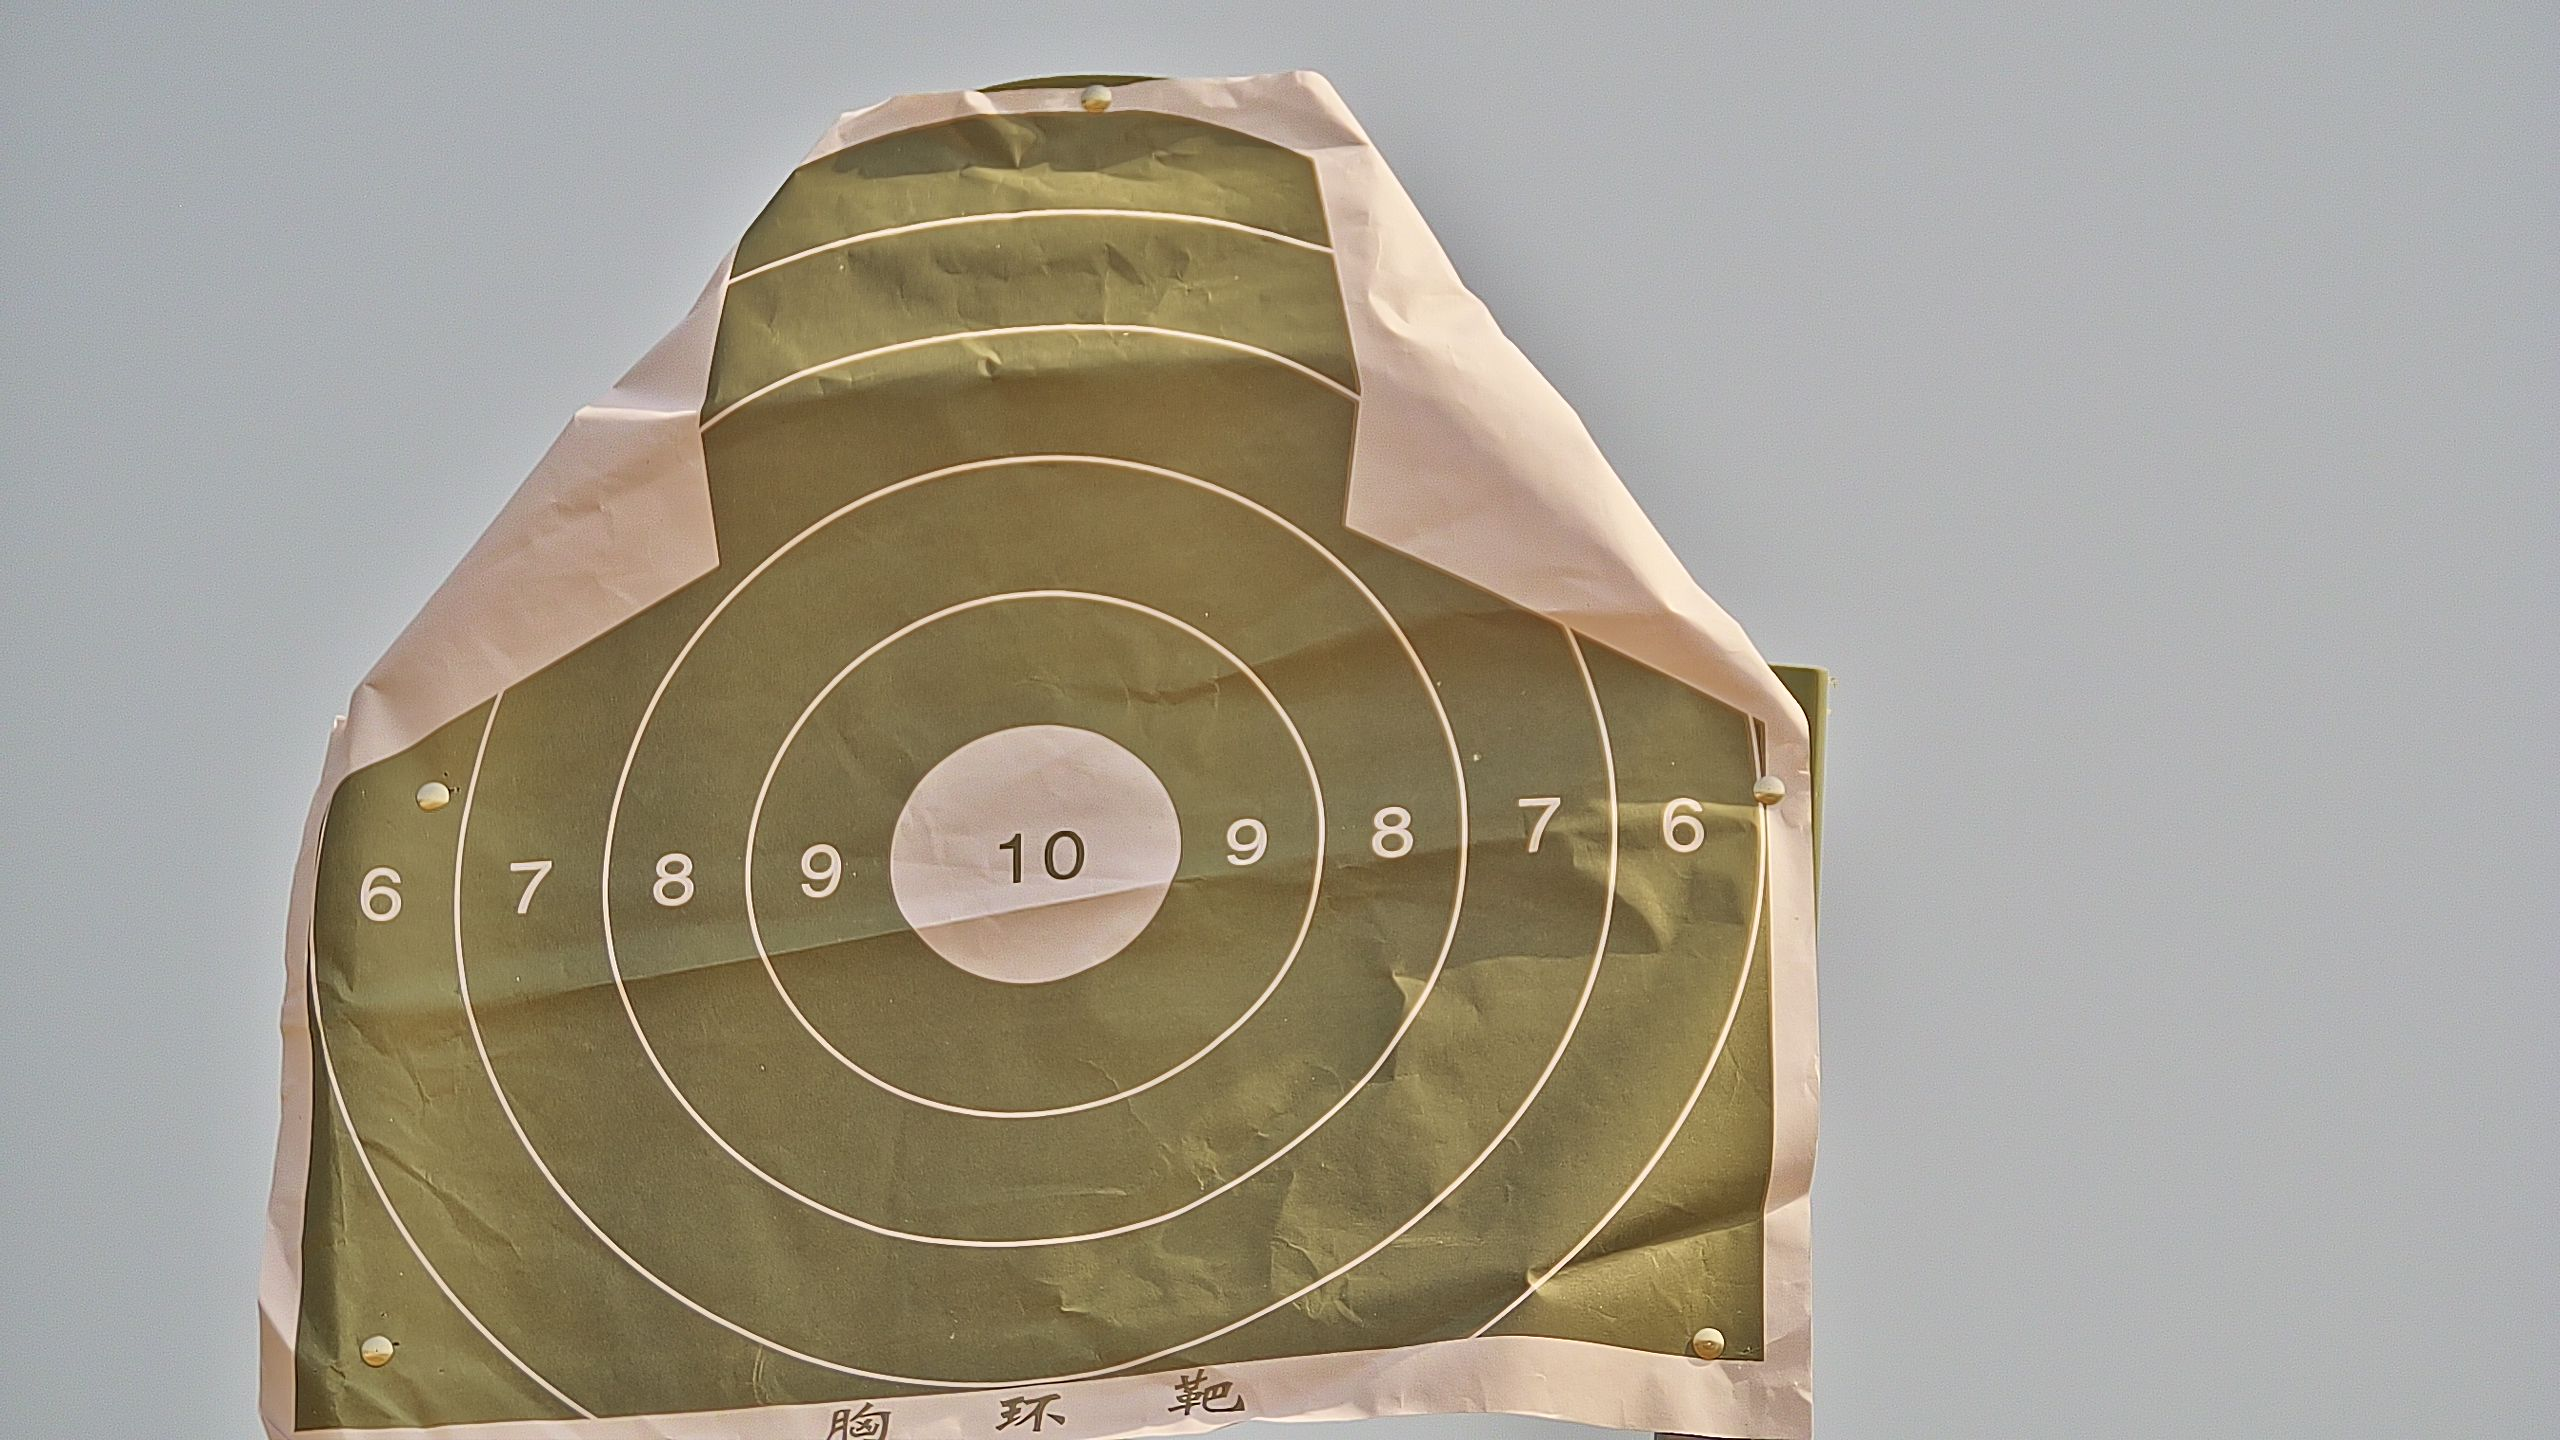kernel: (1032, 856, 1039, 862)
target: (288, 111, 1778, 1440)
ten: (890, 724, 1182, 983)
